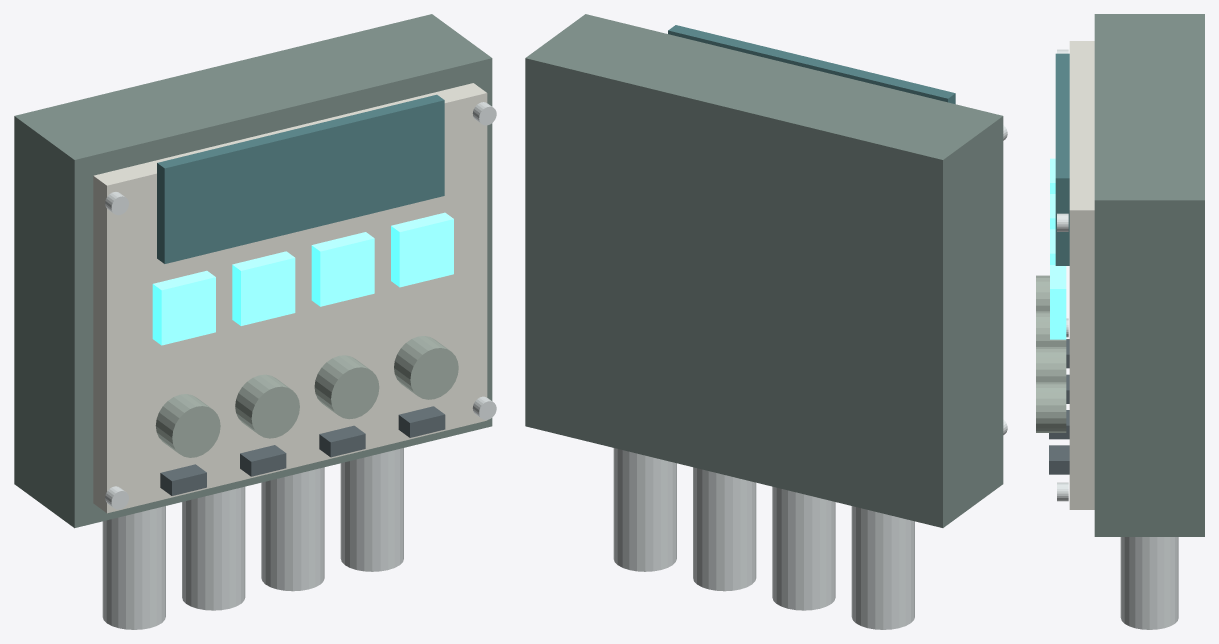
The model's file is s7-c-irr01-bed-control-compact.glb.
The picture shows the model from 3 angles, left to right: view 1: azimuth 30°, elevation 25°; view 2: azimuth 150°, elevation 25°; view 3: azimuth 270°, elevation 25°; orthographic projection. The views are drawn at different scales.
Visible parts, largest first — view 1: 001_control_panel_cream_cover, 000_field_control_reinforced_back_shell, 002_display_dark_glass, 016_hose_output_4_zones_1, 017_hose_output_4_zones_2, 015_hose_output_4_zones_0, 018_hose_output_4_zones_3, 003_zone_status_led_0, 009_zone_status_led_2, 006_zone_status_led_1, 012_zone_status_led_3, 007_bed_zone_pushbutton_1 (+7 smaller); view 2: 000_field_control_reinforced_back_shell, 018_hose_output_4_zones_3, 015_hose_output_4_zones_0, 016_hose_output_4_zones_1, 017_hose_output_4_zones_2, 002_display_dark_glass; view 3: 000_field_control_reinforced_back_shell, 001_control_panel_cream_cover, 018_hose_output_4_zones_3, 002_display_dark_glass, 013_bed_zone_pushbutton_3, 012_zone_status_led_3, 010_bed_zone_pushbutton_2, 007_bed_zone_pushbutton_1, 014_label_slot_3, 004_bed_zone_pushbutton_0.
Part boxes in pixels (x1,y1,x2,y2): 001_control_panel_cream_cover: (93,83,487,513); 000_field_control_reinforced_back_shell: (14,14,492,528); 002_display_dark_glass: (157,94,444,263); 016_hose_output_4_zones_1: (182,486,245,610); 017_hose_output_4_zones_2: (261,467,324,591); 015_hose_output_4_zones_0: (102,506,165,629); 018_hose_output_4_zones_3: (340,448,403,571); 003_zone_status_led_0: (152,270,215,345); 009_zone_status_led_2: (311,232,374,306); 006_zone_status_led_1: (232,251,295,325); 012_zone_status_led_3: (391,212,453,287); 007_bed_zone_pushbutton_1: (235,374,299,438); 000_field_control_reinforced_back_shell: (525,14,1003,527); 018_hose_output_4_zones_3: (613,448,676,571); 015_hose_output_4_zones_0: (851,506,914,629); 016_hose_output_4_zones_1: (772,486,835,610); 017_hose_output_4_zones_2: (693,467,756,591); 002_display_dark_glass: (668,25,955,104); 000_field_control_reinforced_back_shell: (1094,14,1204,536); 001_control_panel_cream_cover: (1069,41,1094,509); 018_hose_output_4_zones_3: (1120,537,1178,629); 002_display_dark_glass: (1055,53,1069,265); 013_bed_zone_pushbutton_3: (1036,382,1066,432); 012_zone_status_led_3: (1050,265,1066,339); 010_bed_zone_pushbutton_2: (1036,346,1066,381); 007_bed_zone_pushbutton_1: (1036,311,1066,346); 014_label_slot_3: (1049,445,1069,474); 004_bed_zone_pushbutton_0: (1036,275,1049,311).
Bounding box in the file's own units: 0.38 × 0.435 × 0.1455.
